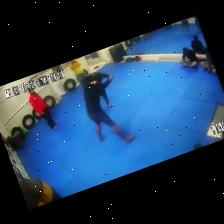person: (82, 76, 133, 143), (28, 89, 57, 130), (67, 60, 85, 83), (201, 48, 215, 73), (179, 48, 197, 67), (190, 36, 204, 54), (92, 72, 110, 83), (192, 15, 201, 32), (180, 19, 188, 33), (144, 32, 150, 41), (164, 25, 171, 30)
